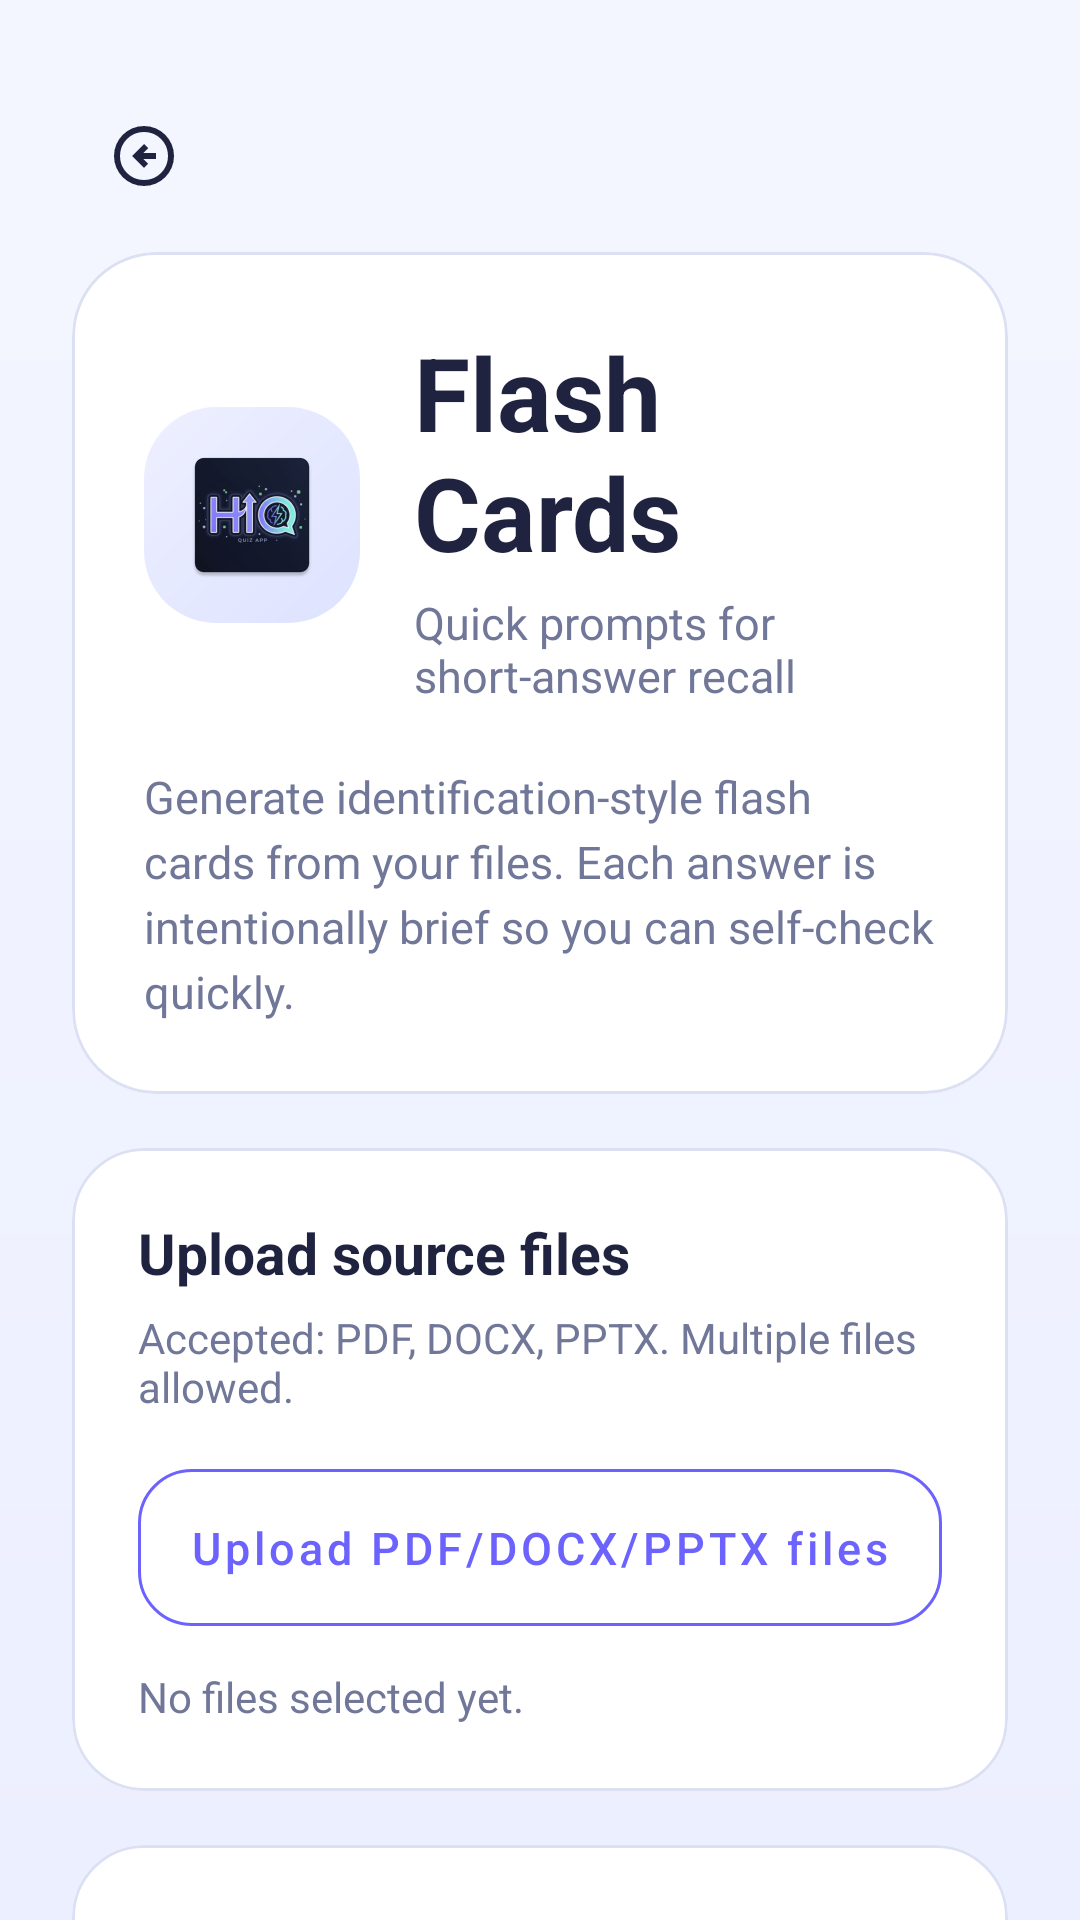

Screen size 1080px x 1920px. Icon name, then its center in pixels as [x,y]:
Back: [144,156]
